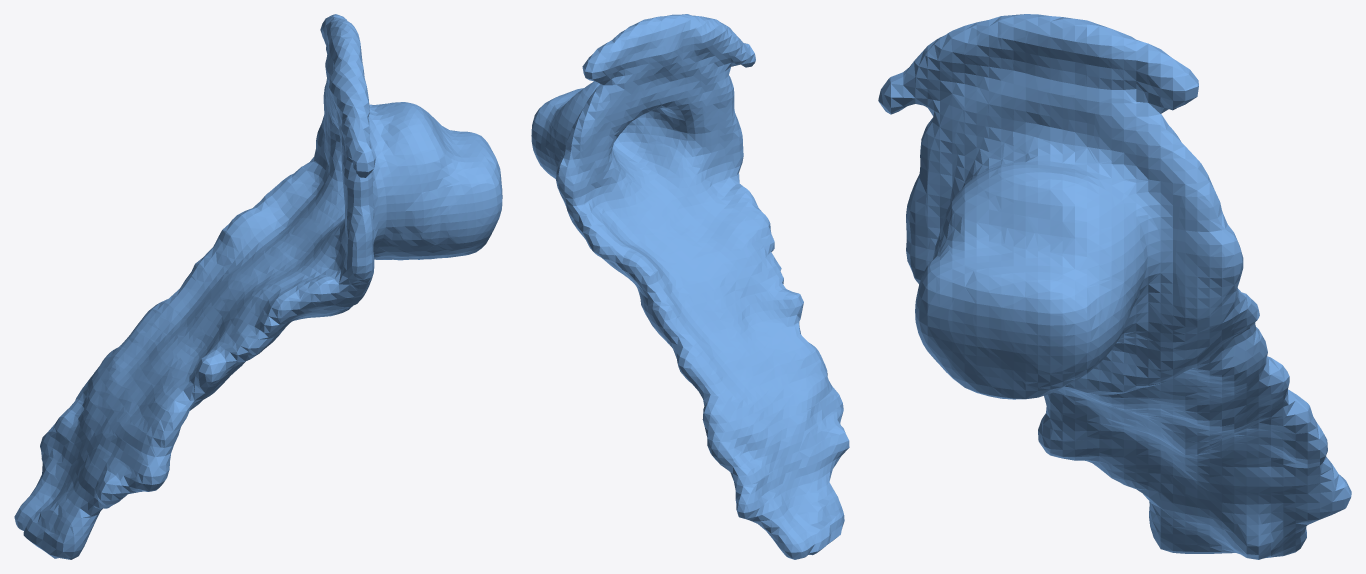
Rendered from water_0031.glb.
The picture shows the model from 3 angles, left to right: view 1: azimuth 30°, elevation 25°; view 2: azimuth 150°, elevation 25°; view 3: azimuth 270°, elevation 25°; orthographic projection. The views are drawn at different scales.
Parts seen in each view (by area): view 1: Water_0031; view 2: Water_0031; view 3: Water_0031.
Part boxes in pixels (x1=…): Water_0031: x1=14, y1=14, x2=502, y2=559; Water_0031: x1=531, y1=14, x2=849, y2=559; Water_0031: x1=878, y1=14, x2=1351, y2=559.
Bounding box in the file's own units: 3.03 × 3.67 × 2.25.
